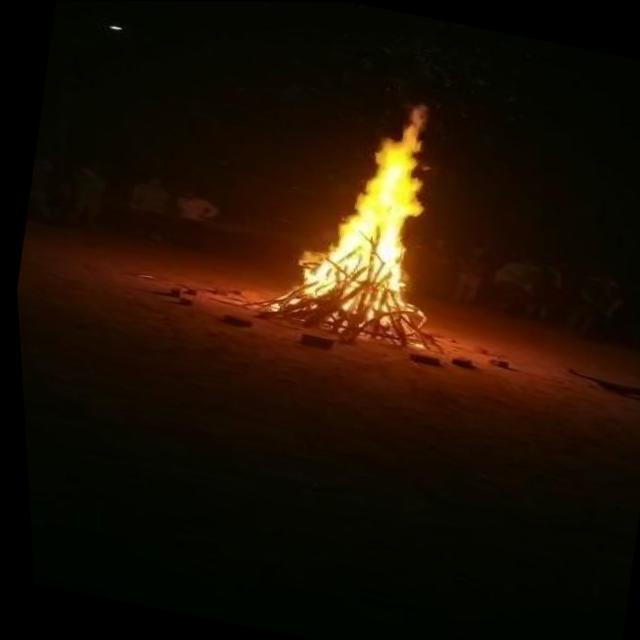fire: (261, 75, 496, 354)
